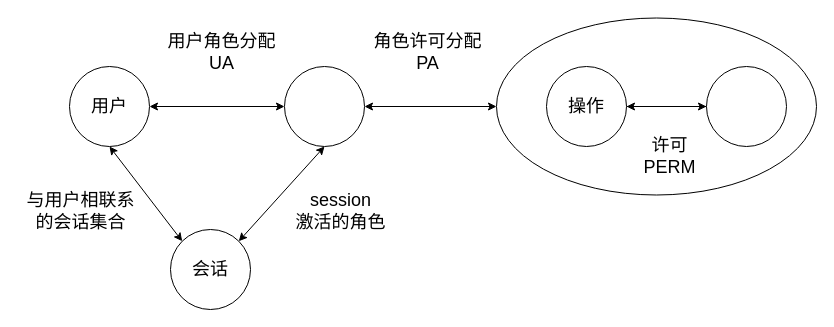
Image size: 834x327. Some labels were removed from this diagram. Each missing label, with the centre of its shape:
"控制对象" goes at pixel 746 106.
"角色" goes at pixel 324 106.
